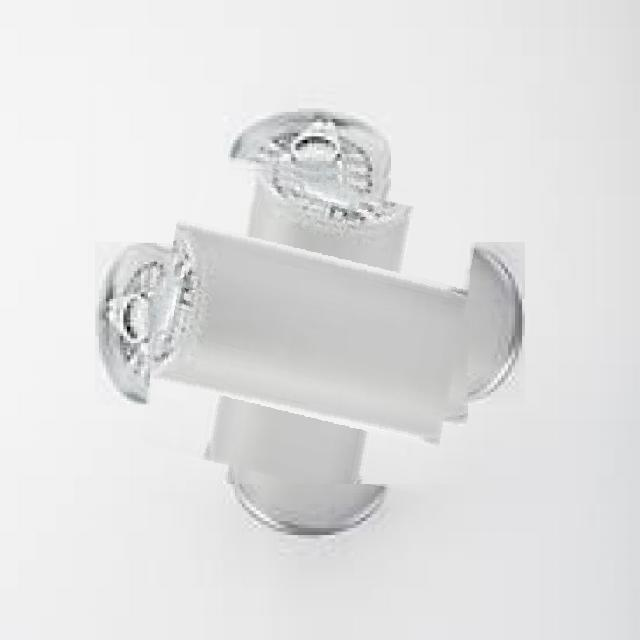recyclable: (150, 162, 471, 484)
